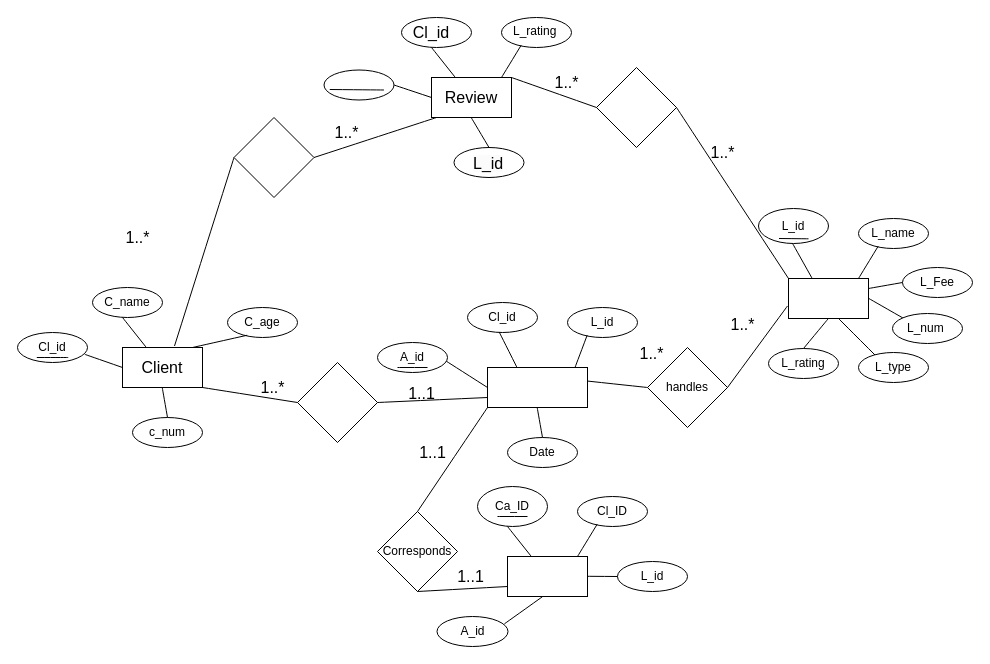
The diagram is 990 pixels wide and 664 high, and some of its shapes have lost their labels. Here are the shapes that lost their labels. From the top down, the centre of each, then its label:
At (x=358, y=84): "R_id".
At (x=636, y=107): "receives".
At (x=273, y=157): "writes".
At (x=828, y=298): "Lawyer".
At (x=337, y=402): "Schedules".
At (x=537, y=387): "Appointment".
At (x=547, y=576): "History".
